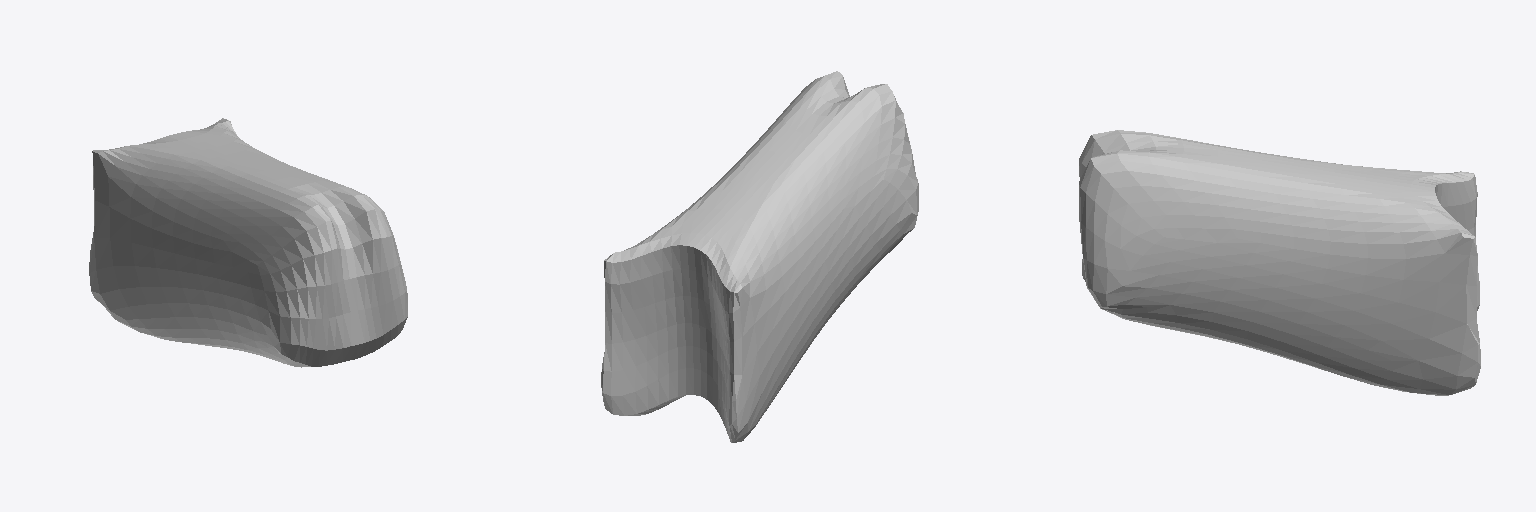
Rendered from vertabrae29.obj.
3 views of the same model, side by side, from view 1: azimuth 30°, elevation 25°; view 2: azimuth 150°, elevation 25°; view 3: azimuth 270°, elevation 25° (orthographic).
Parts seen in each view (by area): view 1: Cube.117_Cube.118; view 2: Cube.117_Cube.118; view 3: Cube.117_Cube.118.
Boxes of the visible parts, x1=… form: Cube.117_Cube.118: x1=89, y1=118, x2=407, y2=367; Cube.117_Cube.118: x1=601, y1=71, x2=918, y2=442; Cube.117_Cube.118: x1=1079, y1=130, x2=1480, y2=395.
Size of the model in its own units: 0.0429 by 0.0684 by 0.1087.